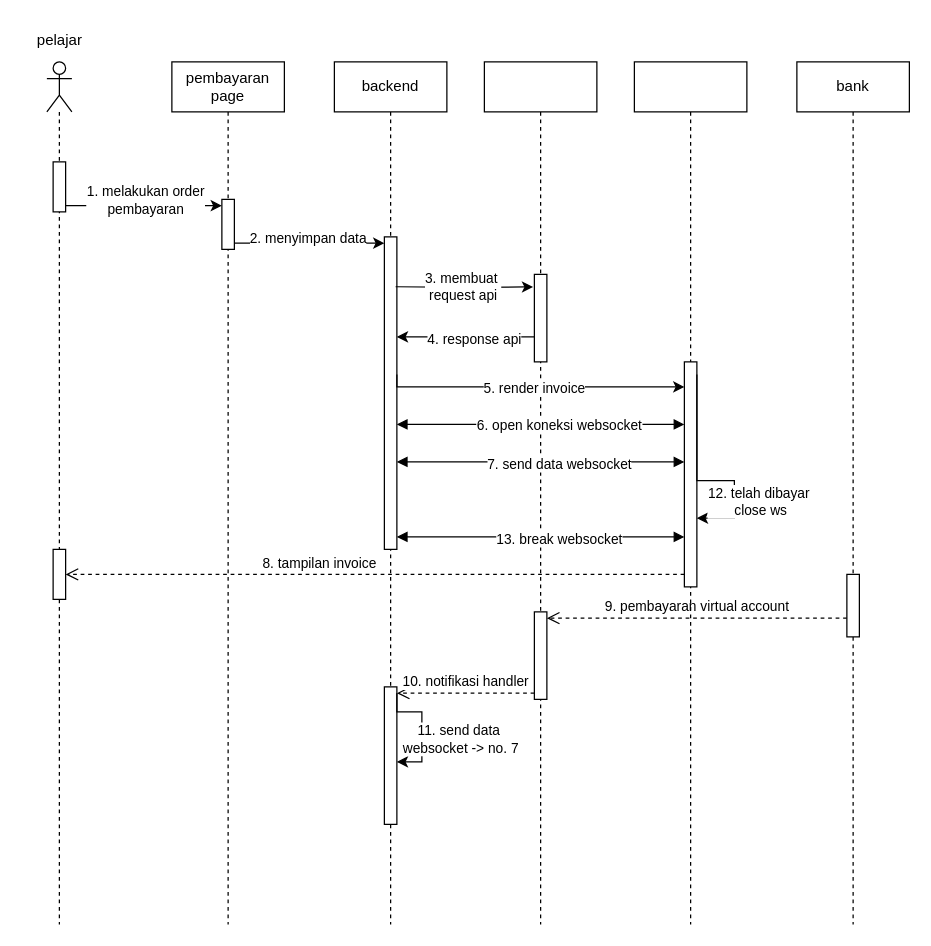
This 931x946 diagram has some shape labels left out. The box of each missing label's shape, as (x1, y1, x2, y2) in pixels:
core api midtrans: (483, 61, 597, 924)
invoice: (633, 61, 747, 924)
